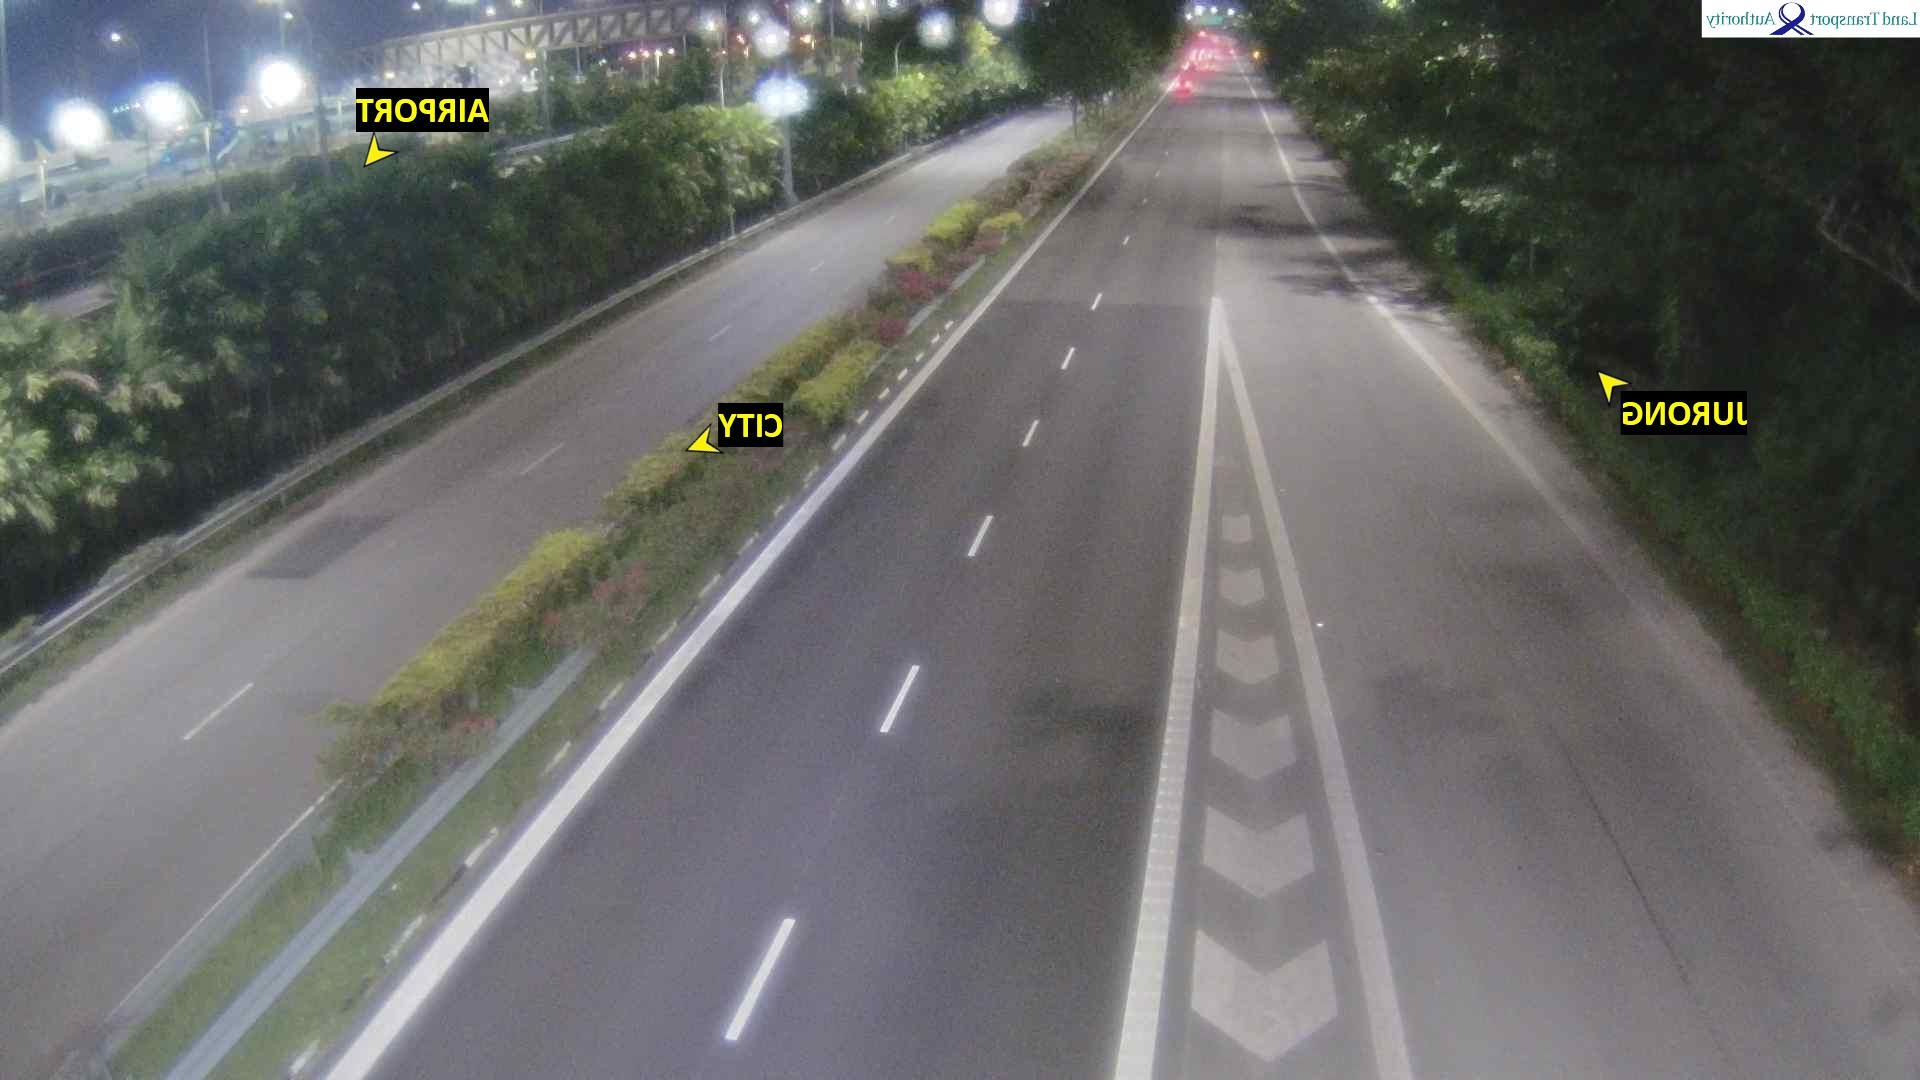cars: (1176, 47, 1221, 73), (1171, 70, 1197, 102)
